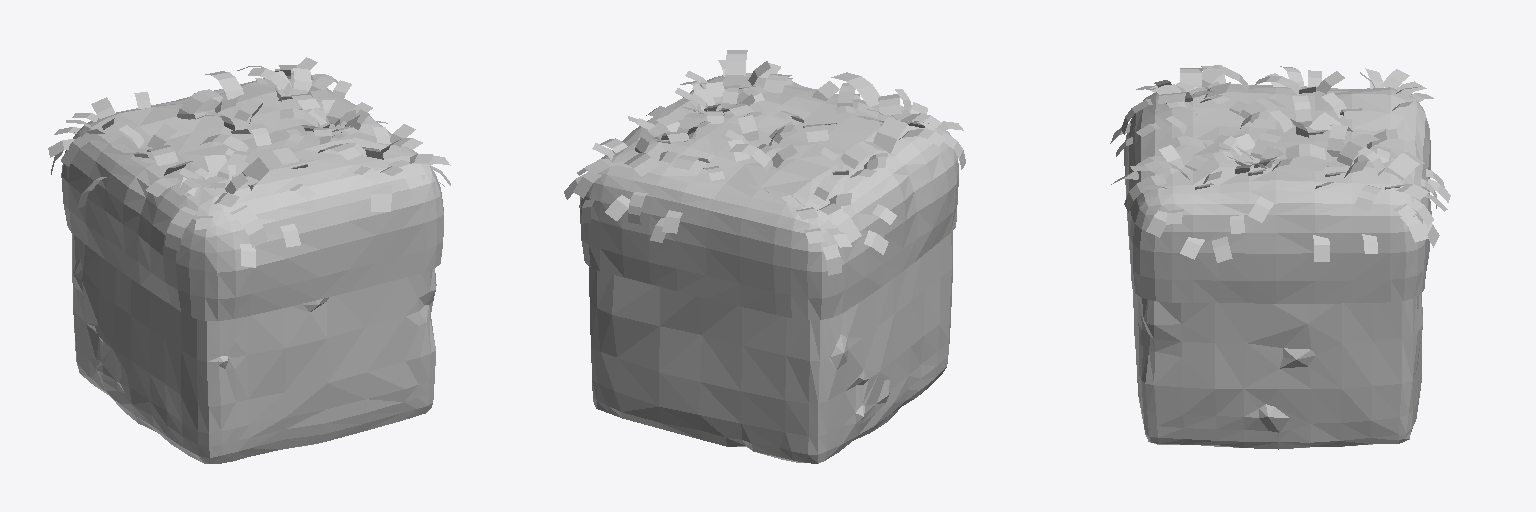
The picture shows the model from 3 angles: view 1: azimuth 30°, elevation 25°; view 2: azimuth 150°, elevation 25°; view 3: azimuth 270°, elevation 25°; orthographic projection.
Visible parts, largest first — view 1: DirtCube; view 2: DirtCube; view 3: DirtCube.
Boxes of the visible parts, <box> form: DirtCube: <box>48,57,450,463</box>; DirtCube: <box>564,50,965,463</box>; DirtCube: <box>1110,65,1450,449</box>.
Size of the model in its own units: 1.29 by 1.24 by 1.3.